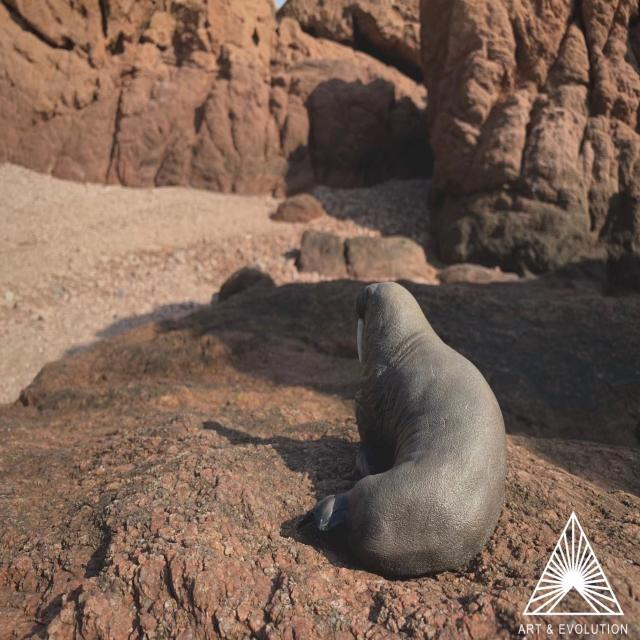walrus: (295, 270, 518, 574)
